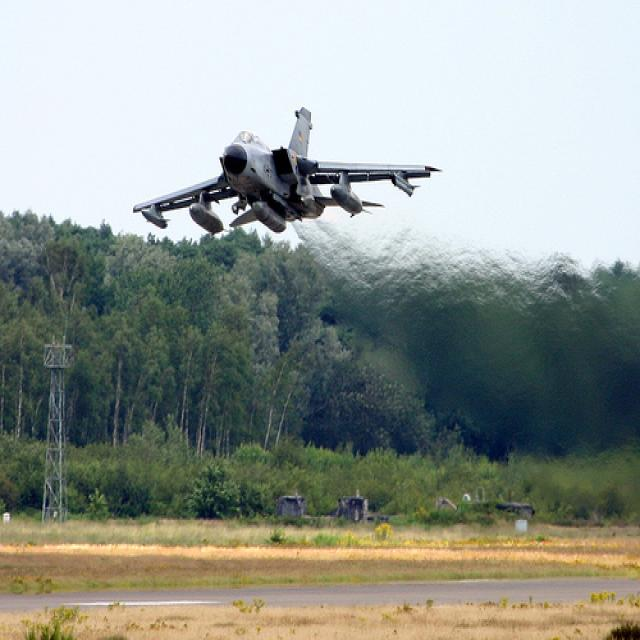aeroplane: (125, 99, 447, 244)
